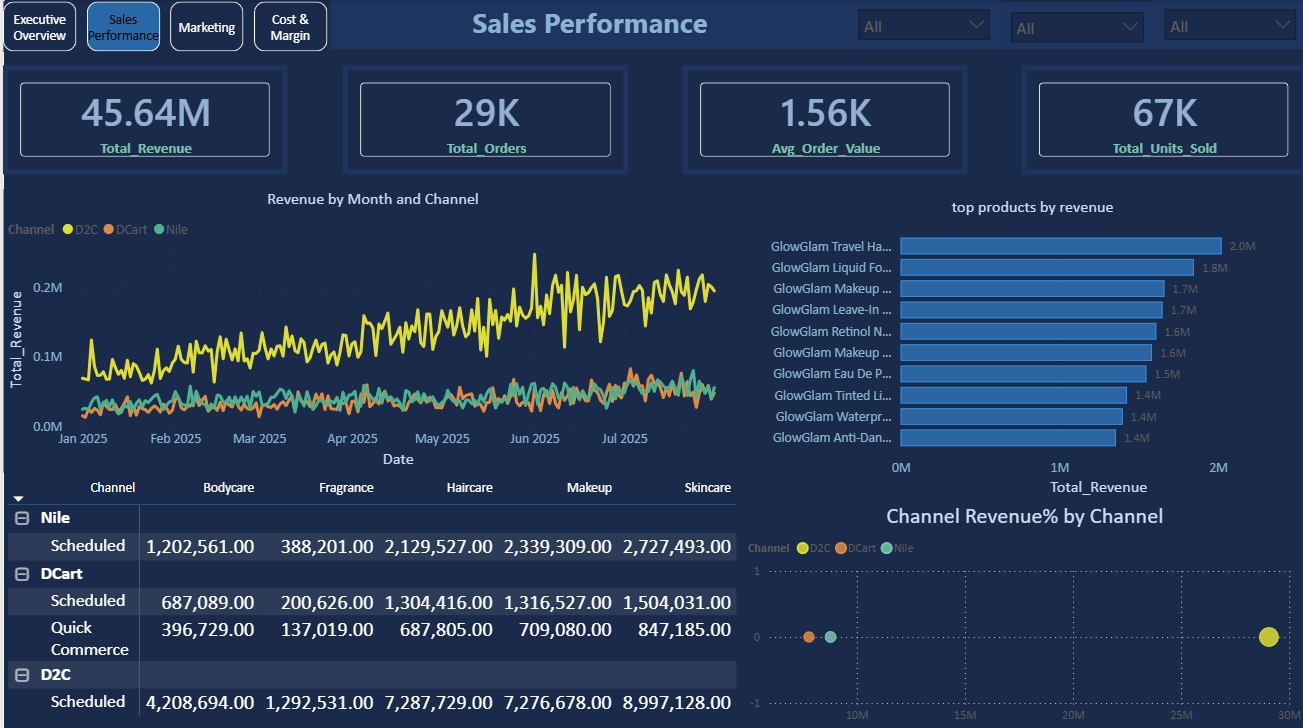

The dashboard page shown, as its layout file describes it:
{"tool":"powerbi","page":{"name":"Sales Performance","canvas":[1280,720],"ordinal":1},"visuals":[{"type":"lineChart","title":"Revenue by Month and Channel","fields":{"Category":["Dim_Date.Date.Variation.Date Hierarchy.Month"],"Y":["fact_sales.Total_Revenue"],"Series":["fact_sales.Channel"]},"box":[0,186.5,726.4,278.5],"z":0},{"type":"cardVisual","fields":{"Data":["fact_sales.Total_Orders"]},"box":[333.6,65.4,280,107],"z":1000},{"type":"cardVisual","fields":{"Data":["fact_sales.Total_Revenue"]},"box":[0,64.9,279.4,107.2],"z":2000},{"type":"cardVisual","fields":{"Data":["fact_sales.Avg_Order_Value"]},"box":[667.3,65.4,279.1,107],"z":3000},{"type":"cardVisual","fields":{"Data":["fact_sales.Total_Units_Sold"]},"box":[1000.1,65.1,279.9,107.4],"z":4000},{"type":"pivotTable","fields":{"Values":["fact_sales.Total_Revenue"],"Rows":["fact_sales.Channel","fact_sales.Delivery_Type"],"Columns":["fact_sales.Category"]},"box":[0,465,726.4,254],"z":5000},{"type":"barChart","title":"top products by revenue","fields":{"Category":["Product List.Product_Name"],"Y":["fact_sales.Total_Revenue"]},"box":[740.8,194.2,539.3,299.2],"z":6000},{"type":"textbox","box":[320.9,0,509.1,49.5],"z":7000},{"type":"scatterChart","title":"Channel Revenue% by Channel","fields":{"Series":["fact_sales.Channel"],"Y":["Ad_Campaign_Data.Revenue_MoM_%"],"X":["fact_sales.Total_Revenue"],"Size":["fact_sales.Total_Revenue"]},"box":[726.4,493.3,553.4,227],"z":8000},{"type":"pageNavigator","box":[0,2.4,320.9,49.5],"z":9000},{"type":"slicer","fields":{"Values":["Dim_Date.Date.Variation.Date Hierarchy.Year"]},"box":[830,0,149.6,49.5],"z":10000},{"type":"slicer","fields":{"Values":["Dim_Month.YearMonth"]},"box":[979.6,2.4,150.8,47.1],"z":11000},{"type":"slicer","fields":{"Values":["Dim_Category.Category"]},"box":[1130.4,0,149.6,49.5],"z":12000}]}

Visuals, with their boxes in screenshot pixels (x1, y1, x2, y2), scaled from the page's 1280x720 canvas onto the 1303x728 screenshot:
"Revenue by Month and Channel" lineChart: {"x1": 0, "y1": 189, "x2": 739, "y2": 470}
cardVisual - fact_sales.Total_Orders: {"x1": 340, "y1": 66, "x2": 625, "y2": 174}
cardVisual - fact_sales.Total_Revenue: {"x1": 0, "y1": 66, "x2": 284, "y2": 174}
cardVisual - fact_sales.Avg_Order_Value: {"x1": 679, "y1": 66, "x2": 963, "y2": 174}
cardVisual - fact_sales.Total_Units_Sold: {"x1": 1018, "y1": 66, "x2": 1302, "y2": 174}
pivotTable - fact_sales.Total_Revenue x fact_sales.Channel: {"x1": 0, "y1": 470, "x2": 739, "y2": 727}
"top products by revenue" barChart: {"x1": 754, "y1": 196, "x2": 1302, "y2": 499}
textbox: {"x1": 327, "y1": 0, "x2": 845, "y2": 50}
"Channel Revenue% by Channel" scatterChart: {"x1": 739, "y1": 499, "x2": 1302, "y2": 727}
pageNavigator: {"x1": 0, "y1": 2, "x2": 327, "y2": 52}
slicer - Dim_Date.Date.Variation.Date Hierarchy.Year: {"x1": 845, "y1": 0, "x2": 997, "y2": 50}
slicer - Dim_Month.YearMonth: {"x1": 997, "y1": 2, "x2": 1151, "y2": 50}
slicer - Dim_Category.Category: {"x1": 1151, "y1": 0, "x2": 1302, "y2": 50}
